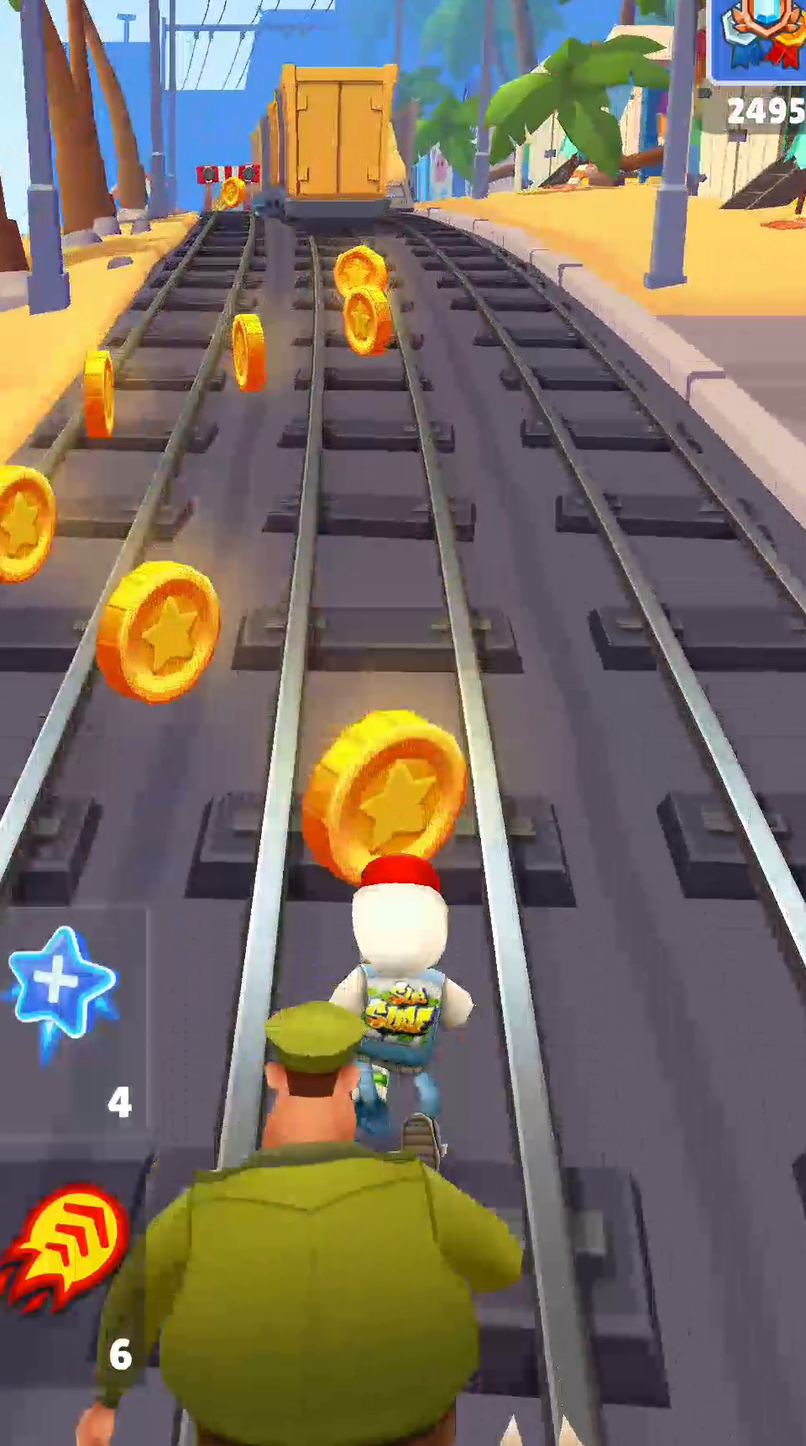blocker: (196, 164, 259, 210)
climber: (387, 122, 411, 206)
police: (76, 1001, 521, 1445)
train: (251, 64, 398, 223)
